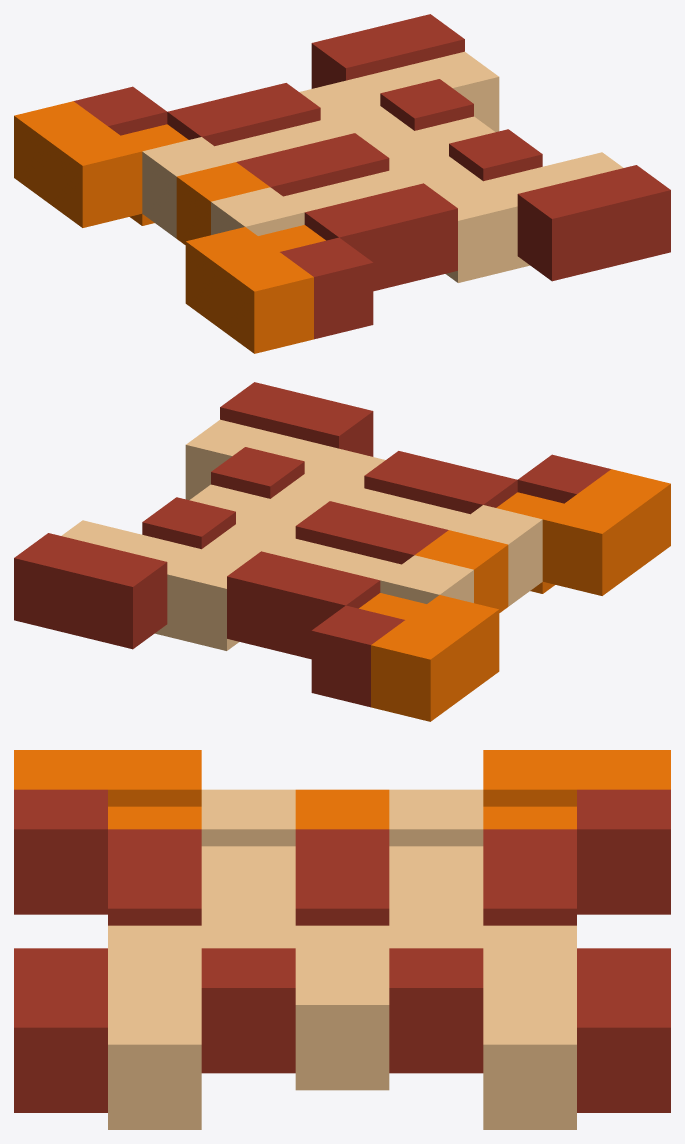
File: OrangeBlock_Ship.fbx
The picture shows the model from 3 angles, top to bottom: view 1: azimuth 30°, elevation 25°; view 2: azimuth 150°, elevation 25°; view 3: azimuth 270°, elevation 25°; orthographic projection. The views are drawn at different scales.
Parts seen in each view (by area): view 1: Cube.200, Cube.196, Cube.206; view 2: Cube.200, Cube.196, Cube.206; view 3: Cube.200, Cube.196, Cube.206.
Boxes of the visible parts, x1,y1,x2,y2 form: Cube.200: (74,14,670,339); Cube.196: (142,51,623,282); Cube.206: (14,101,325,353); Cube.200: (14,382,610,707); Cube.196: (61,419,542,650); Cube.206: (359,469,670,721); Cube.200: (14,789,670,1112); Cube.196: (108,789,576,1129); Cube.206: (14,750,670,829).
Size of the model in its own units: 7 by 1.2 by 7.
